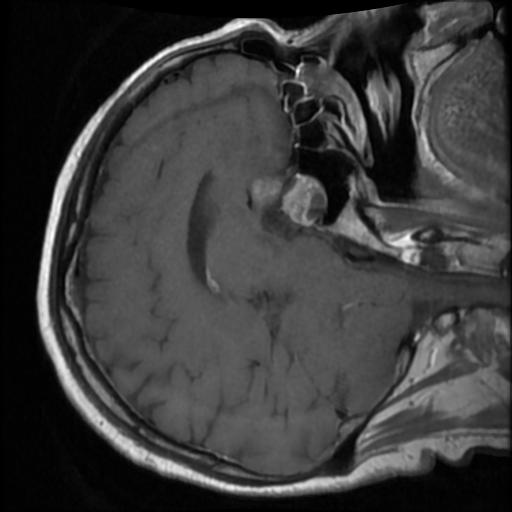pituitary tumour: (248, 173, 326, 227)
